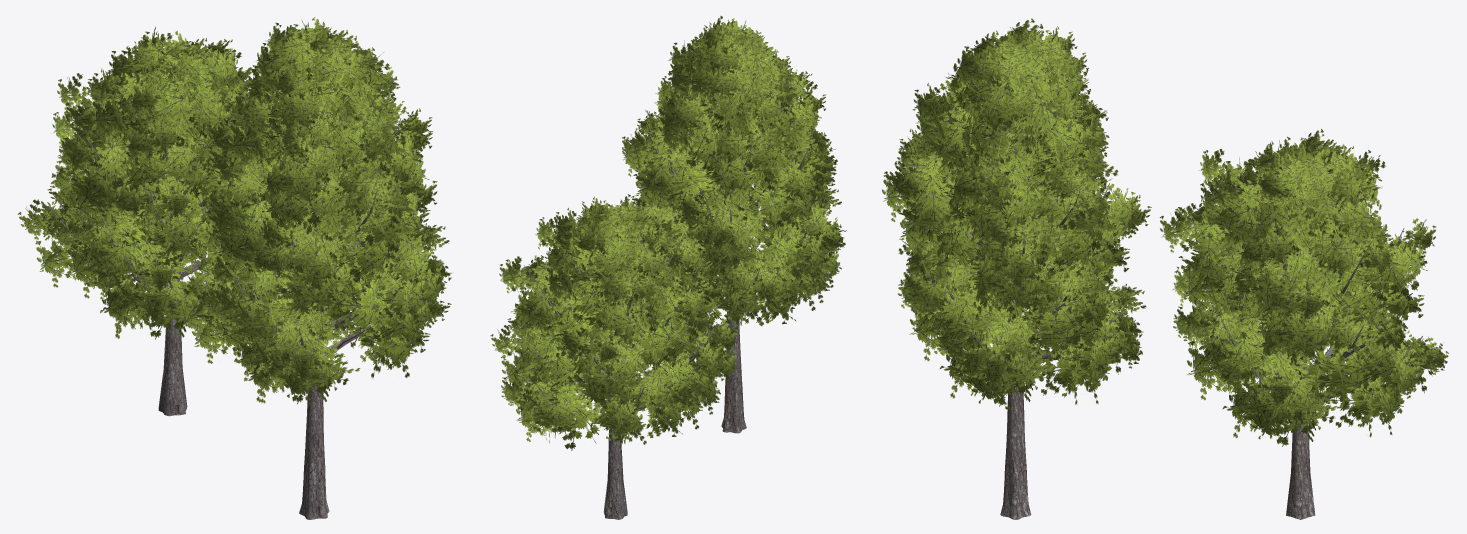
File: trees_low_poly.glb
The picture shows the model from 3 angles, left to right: view 1: azimuth 30°, elevation 25°; view 2: azimuth 150°, elevation 25°; view 3: azimuth 270°, elevation 25°; orthographic projection. The views are drawn at different scales.
Visible parts, largest first — view 1: tree4, tree6; view 2: tree4, tree6; view 3: tree4, tree6.
Part boxes in pixels (x1=…): tree4: x1=177, y1=17, x2=452, y2=519; tree6: x1=17, y1=26, x2=311, y2=416; tree4: x1=622, y1=16, x2=846, y2=433; tree6: x1=490, y1=194, x2=737, y2=519; tree4: x1=882, y1=18, x2=1151, y2=519; tree6: x1=1159, y1=129, x2=1448, y2=519.
Size of the model in its own units: 580 by 1036 by 1100.
2 materials, 2 textured.
